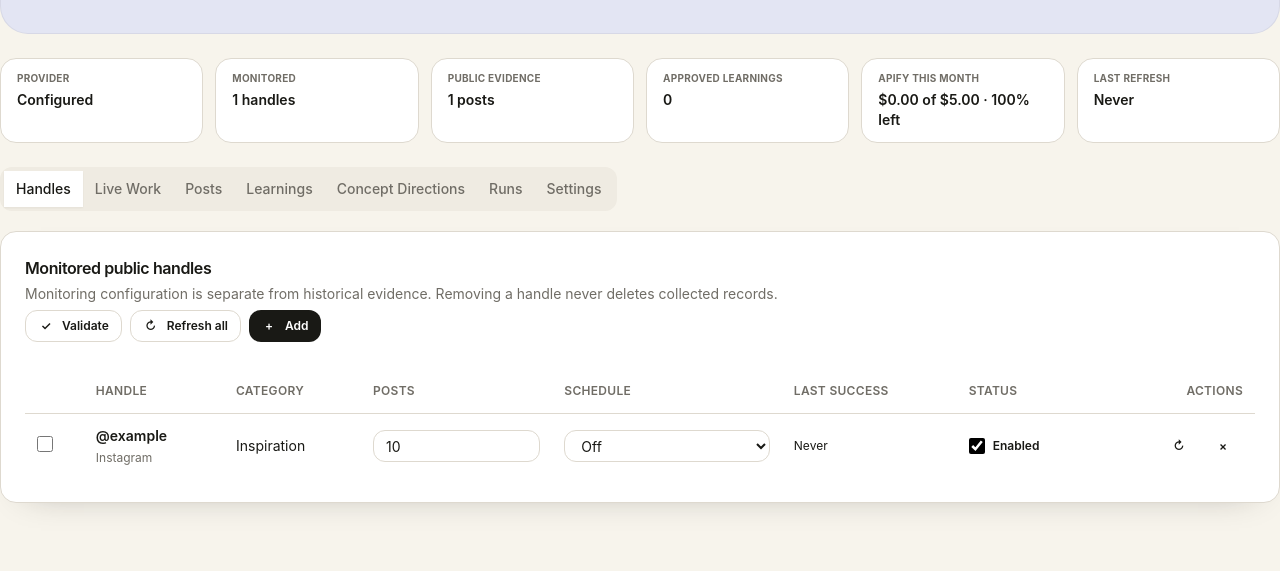
Social Intelligence Agent › shows partial runs, explores real posts, and approves an evidence learning
Click the tab "Posts" at [204, 188], box [173,170,234,206]
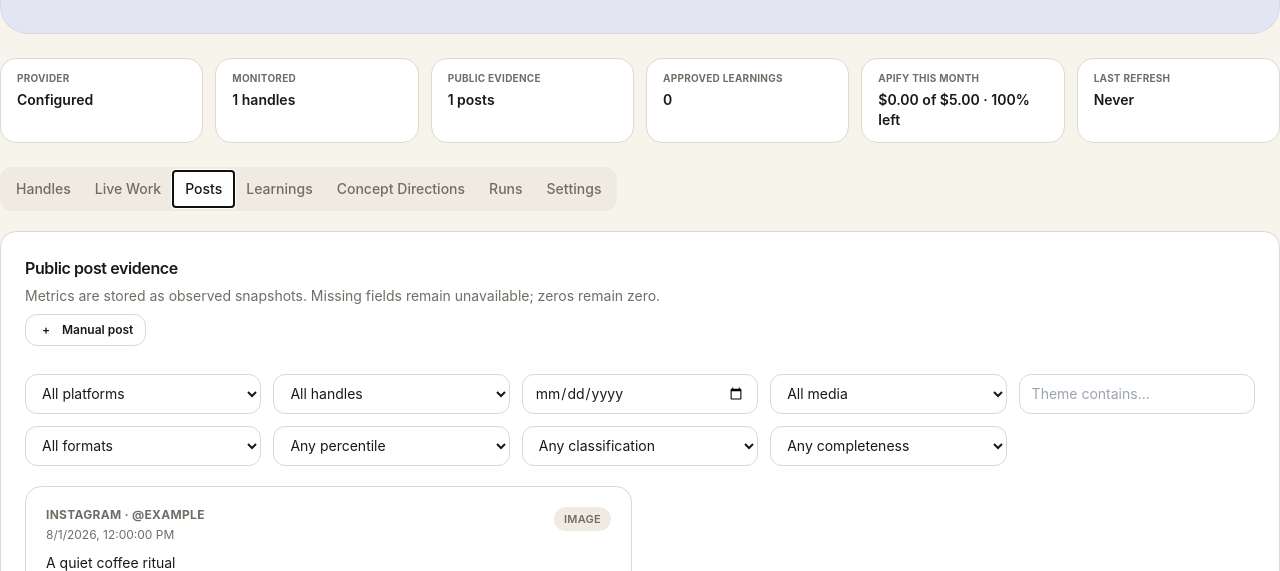
Expected: the text "0" is shown, [663,90,672,108]
Click the tab "Learnings" at [280, 188], box [234,170,325,206]
(page scrolled)
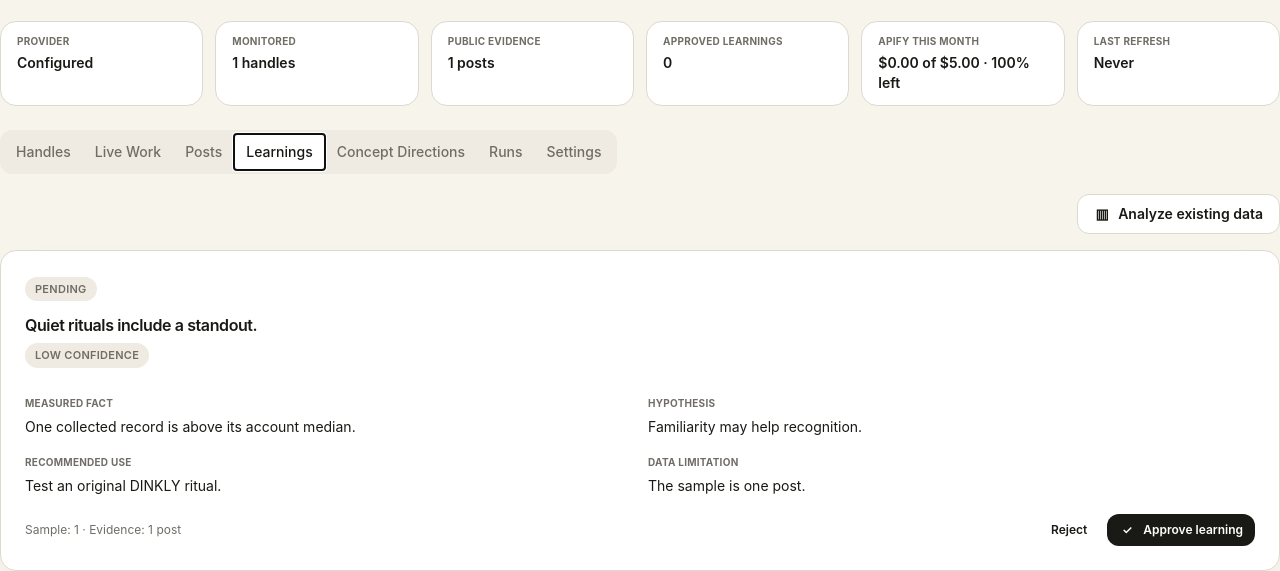
Click the button "✓ Approve learning" at [1181, 530], box [1107,514,1255,546]
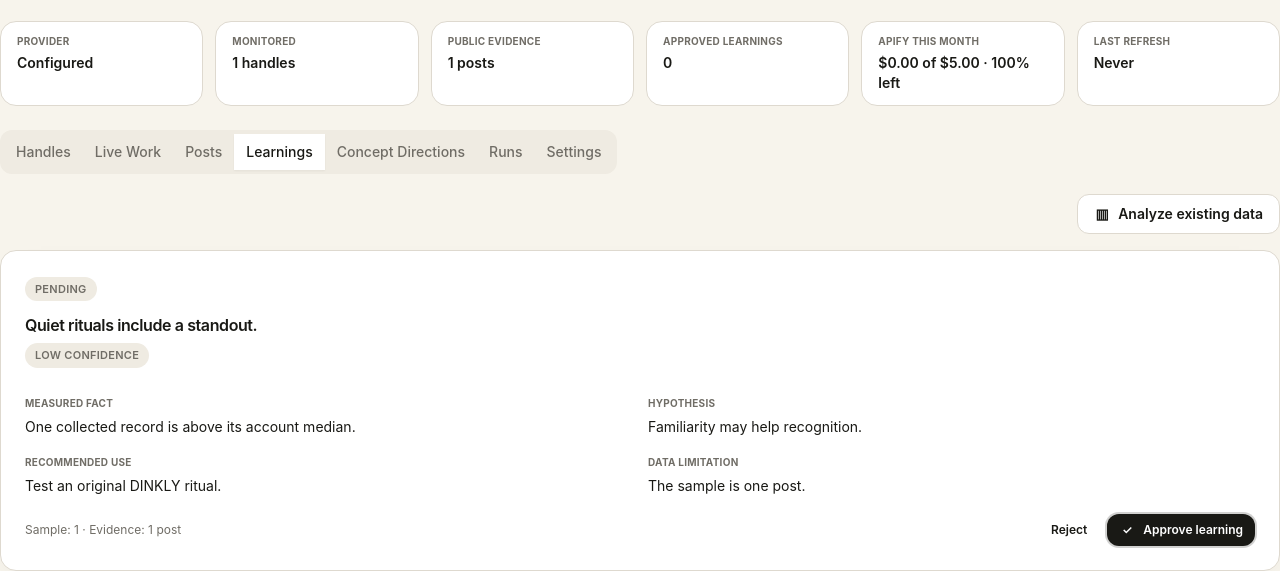
Click the tab "Runs" at [506, 152], box [477,134,535,170]
(page scrolled)
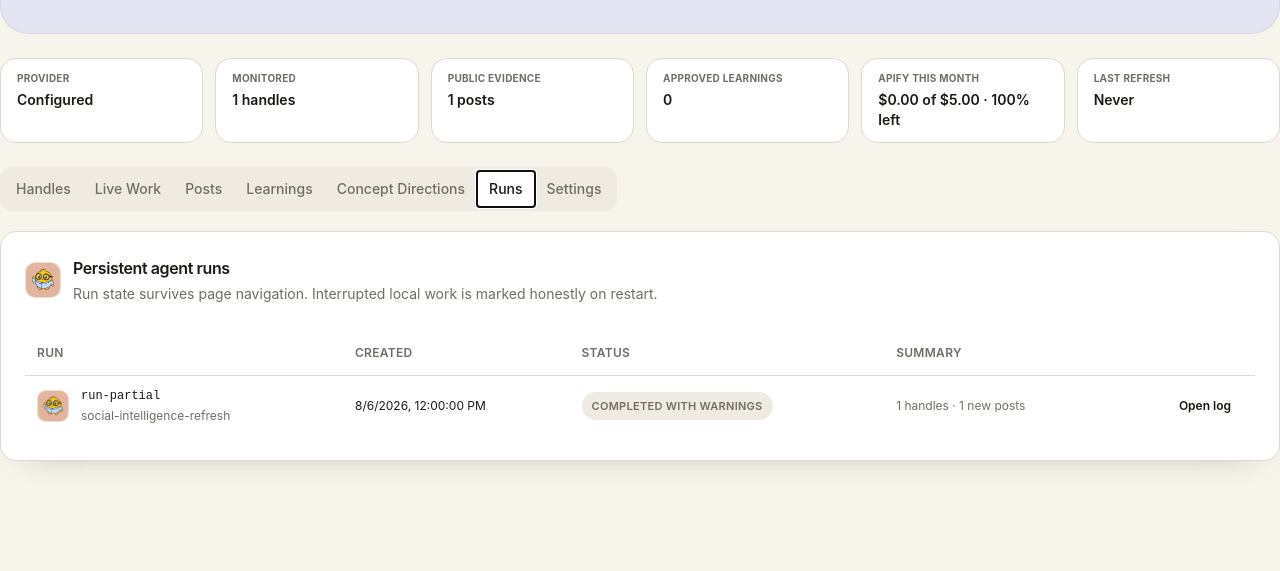
Result: the text "Completed with warnings" is shown at [582,392,773,420]
